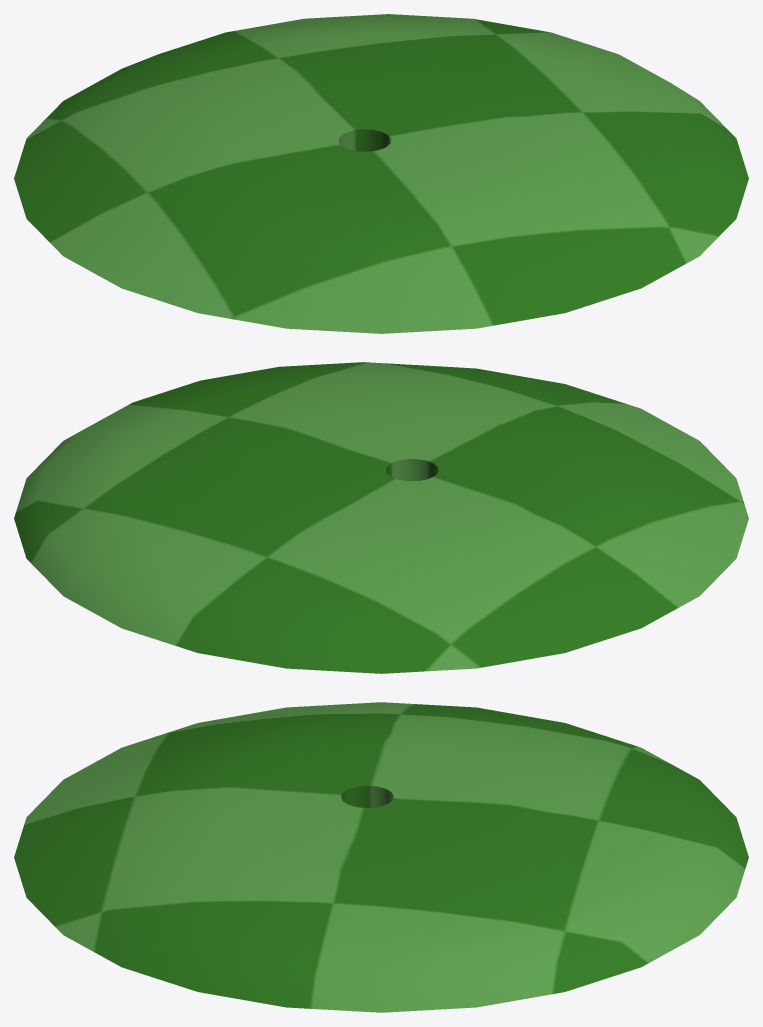
Rendered from Mini Golf Hole 2 Fix.fbx.
The picture shows the model from 3 angles, top to bottom: view 1: azimuth 30°, elevation 25°; view 2: azimuth 150°, elevation 25°; view 3: azimuth 270°, elevation 25°; orthographic projection.
Parts seen in each view (by area): view 1: Hole 2 Beautiful Lake; view 2: Hole 2 Beautiful Lake; view 3: Hole 2 Beautiful Lake.
Part boxes in pixels (left/top/right/bottom): Hole 2 Beautiful Lake: left=14, top=14, right=748, bottom=333; Hole 2 Beautiful Lake: left=14, top=362, right=748, bottom=673; Hole 2 Beautiful Lake: left=14, top=702, right=748, bottom=1012.
Bounding box in the file's own units: 531 × 39.11 × 531.
